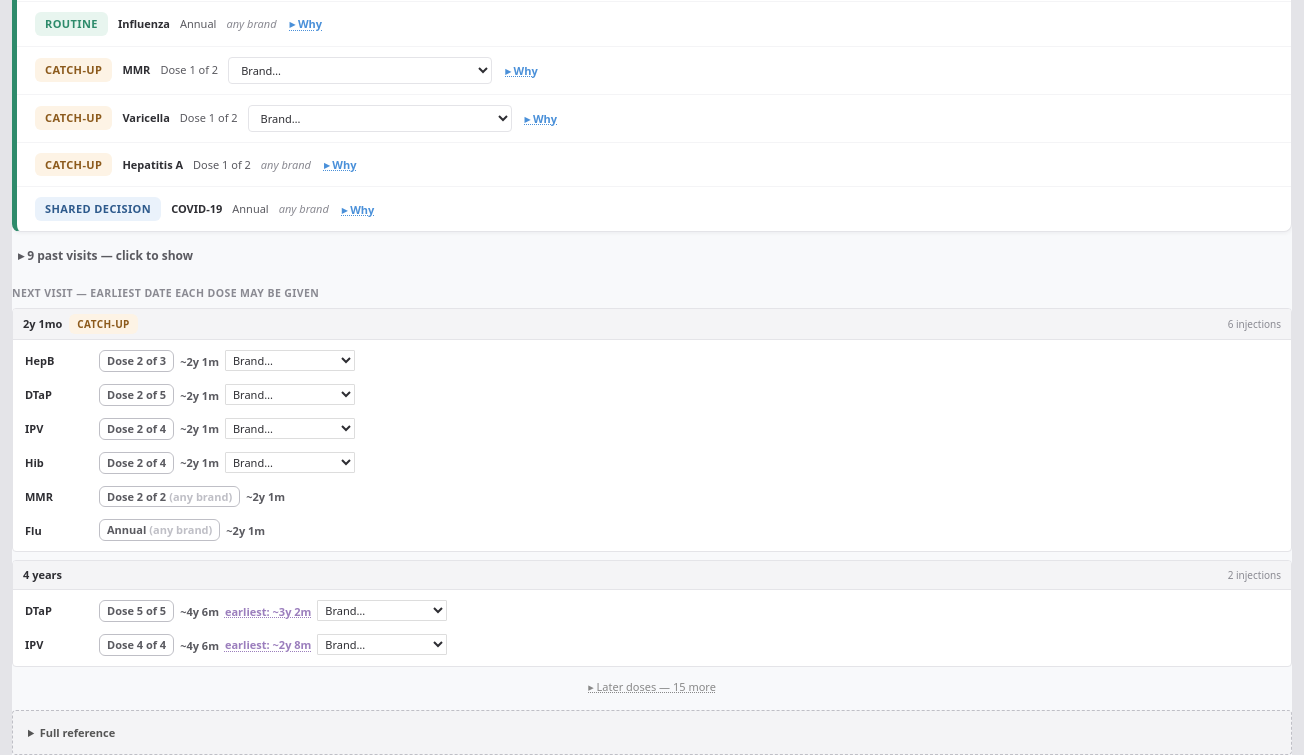
Test: ForecastTab — catch-up card vk isolation › a catch-up card only shows doses for vaccines actually due there
This screenshot has width=1304, height=755.
(page scrolled)
Click the button with class "fct-show-full-btn" at (652, 686), box [580,675,724,698]
(page scrolled)
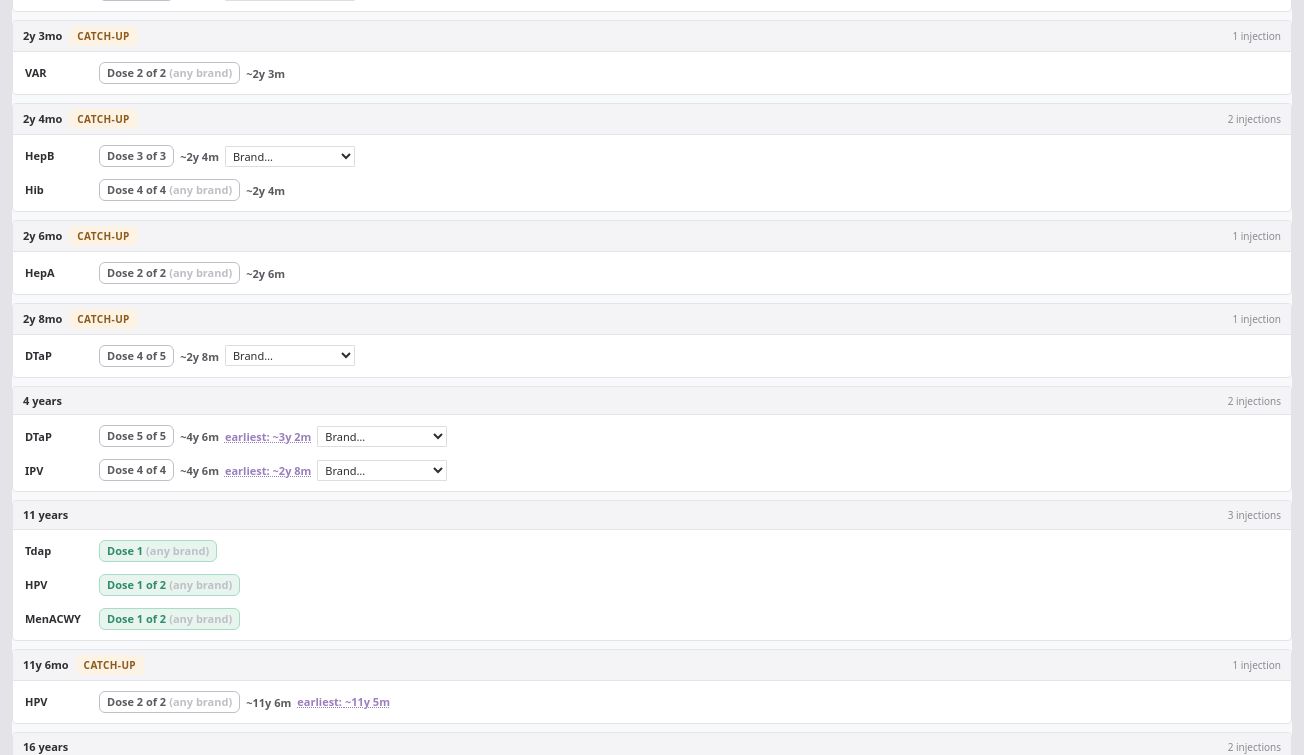
Expected: the element showing "2y 8mo catch-up 1 injection DTaP Dose 4 of 5 ~2y 8m" is shown, [12,303,1292,378]
Expected: the element showing "DTaP Dose 4 of 5 ~2y 8m" is shown, [25,345,355,367]
